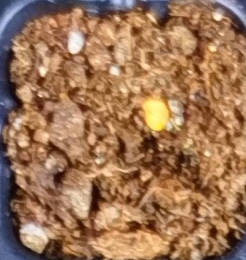pepper seed: (58, 29, 227, 163)
